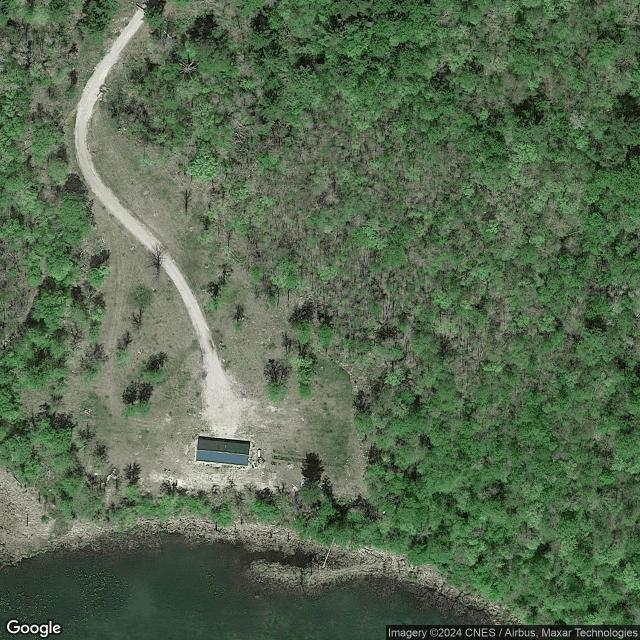Propane: (257, 448, 262, 459)
